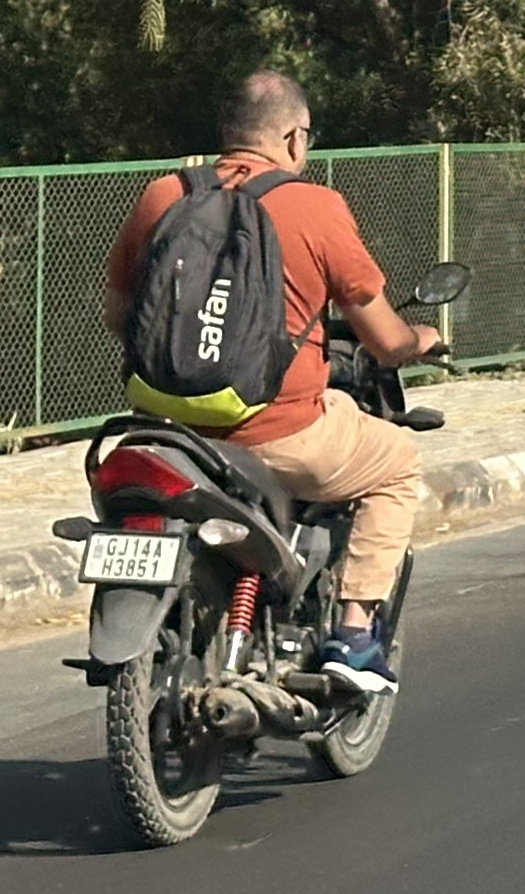BikeWithRider: (40, 59, 482, 863)
NoHelmet: (210, 59, 323, 178)
